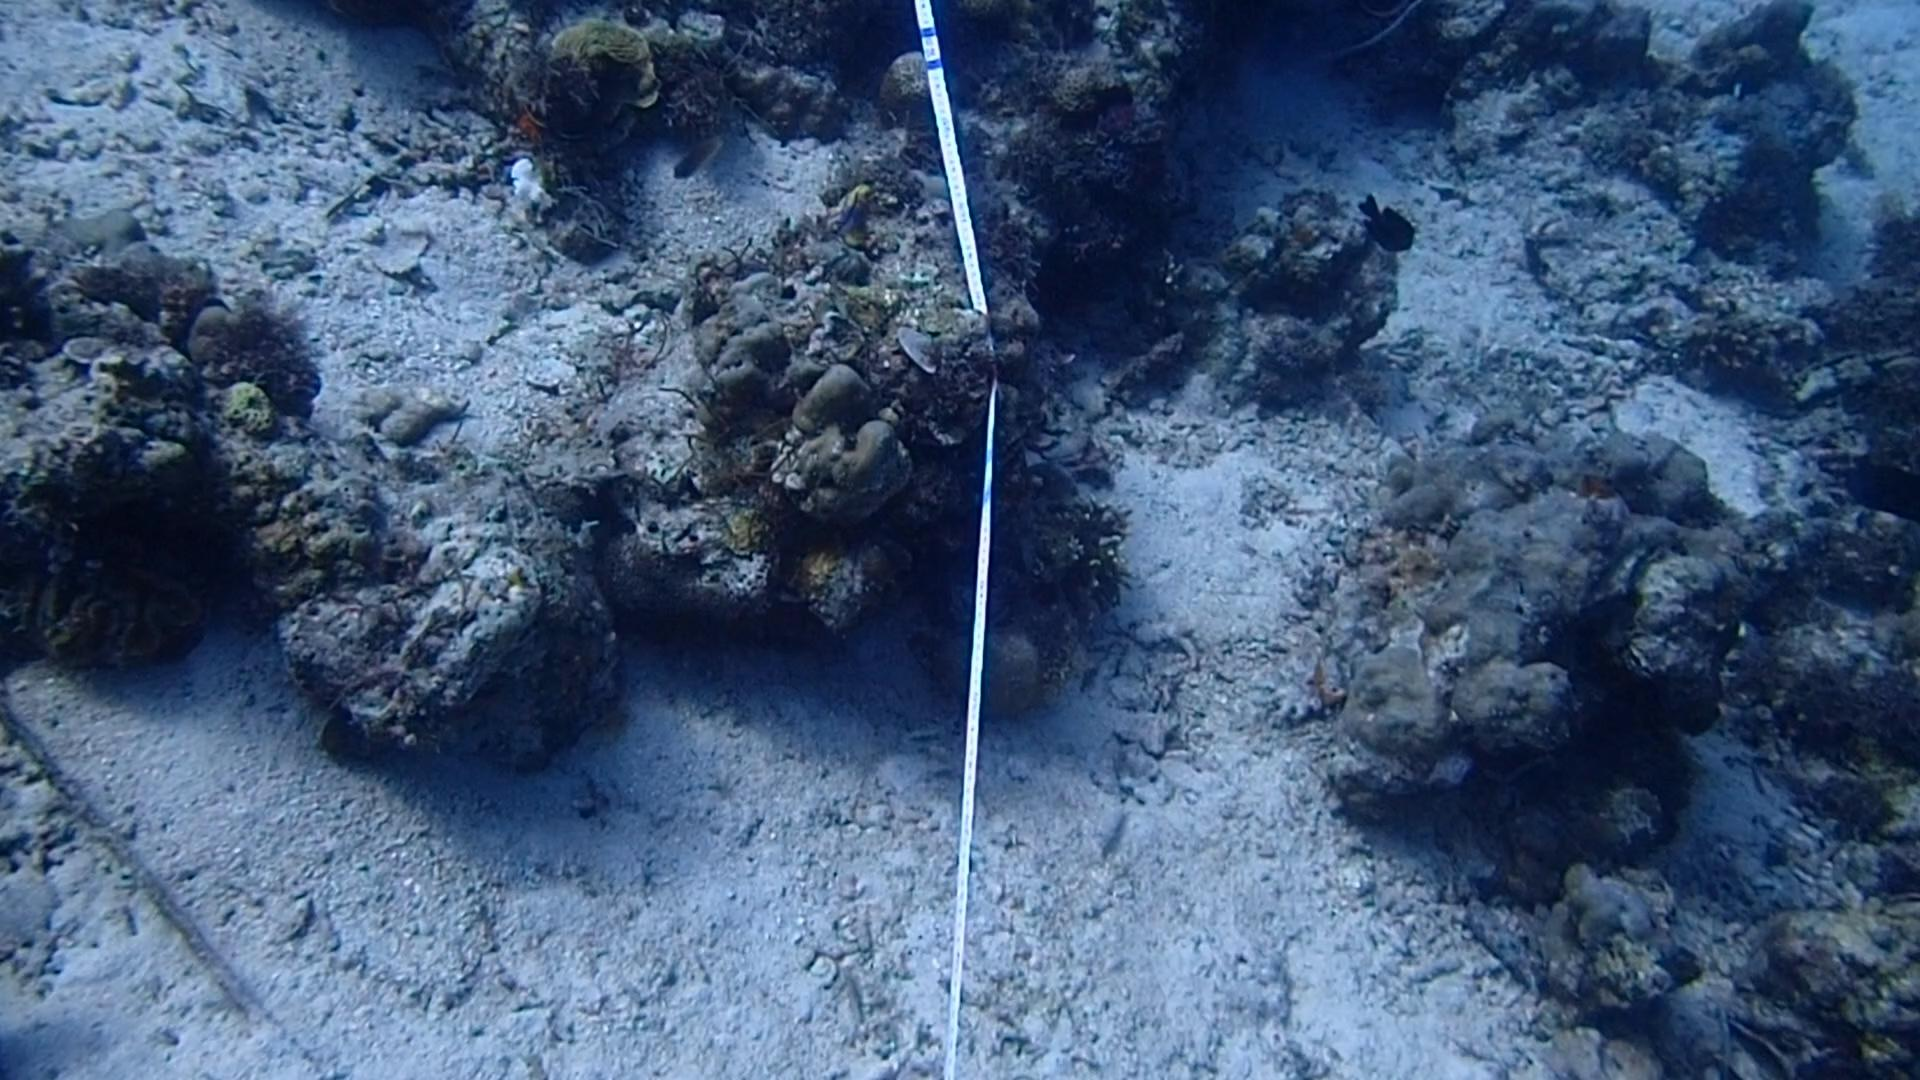Dark Fish: (1844, 448, 1920, 529), (1356, 183, 1420, 262)
Light Fish: (662, 129, 732, 191)
